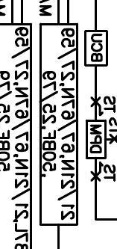BCU: (84, 29, 108, 67)
DPM: (85, 119, 107, 160)
